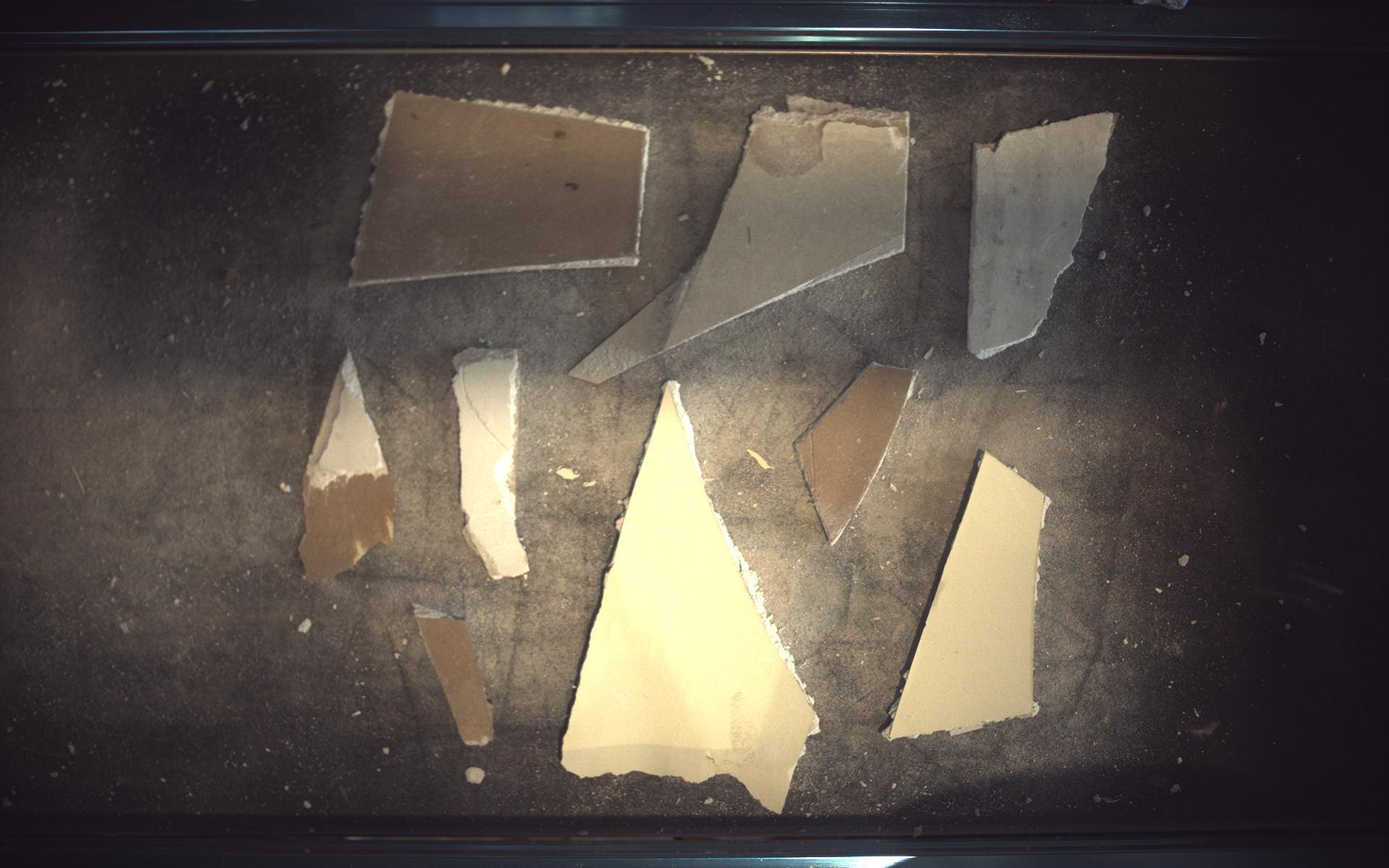gypsum_board: (562, 380, 819, 814), (571, 95, 912, 383), (349, 90, 650, 286), (889, 452, 1050, 741), (969, 111, 1118, 358), (298, 352, 395, 579), (797, 364, 918, 545), (453, 347, 530, 580), (415, 605, 493, 746)
